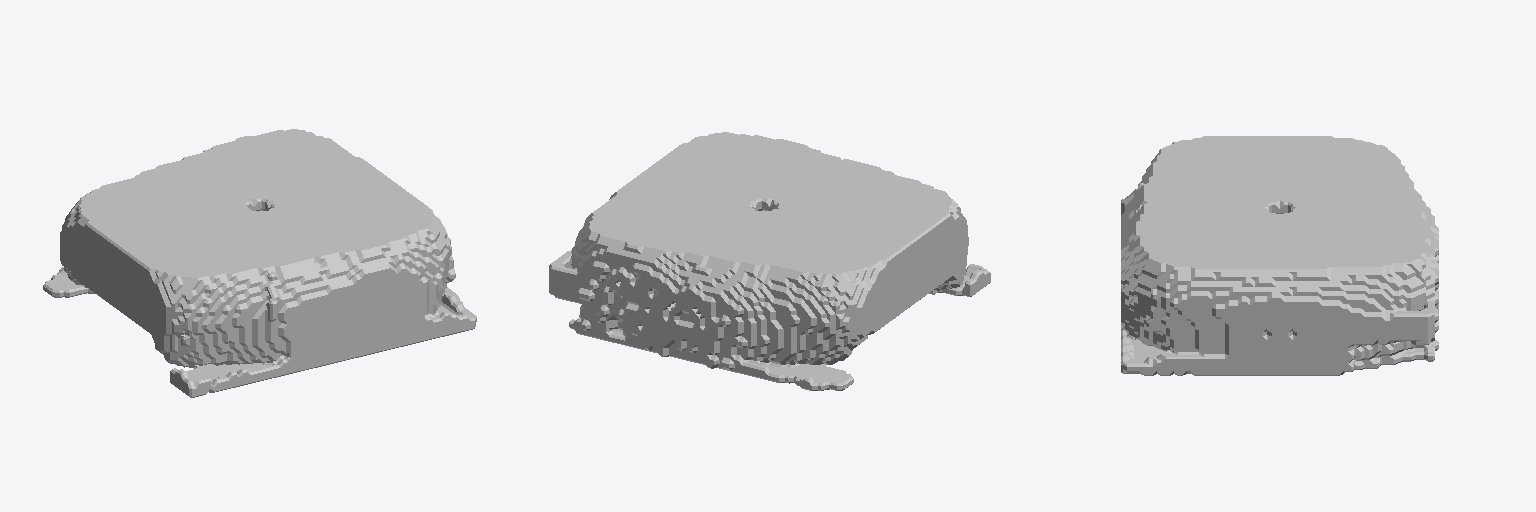
File: Input_surface_mesh.obj
The picture shows the model from 3 angles: view 1: azimuth 30°, elevation 25°; view 2: azimuth 150°, elevation 25°; view 3: azimuth 270°, elevation 25°; orthographic projection.
Bounding box in the file's own units: 6.32 × 2.08 × 6.